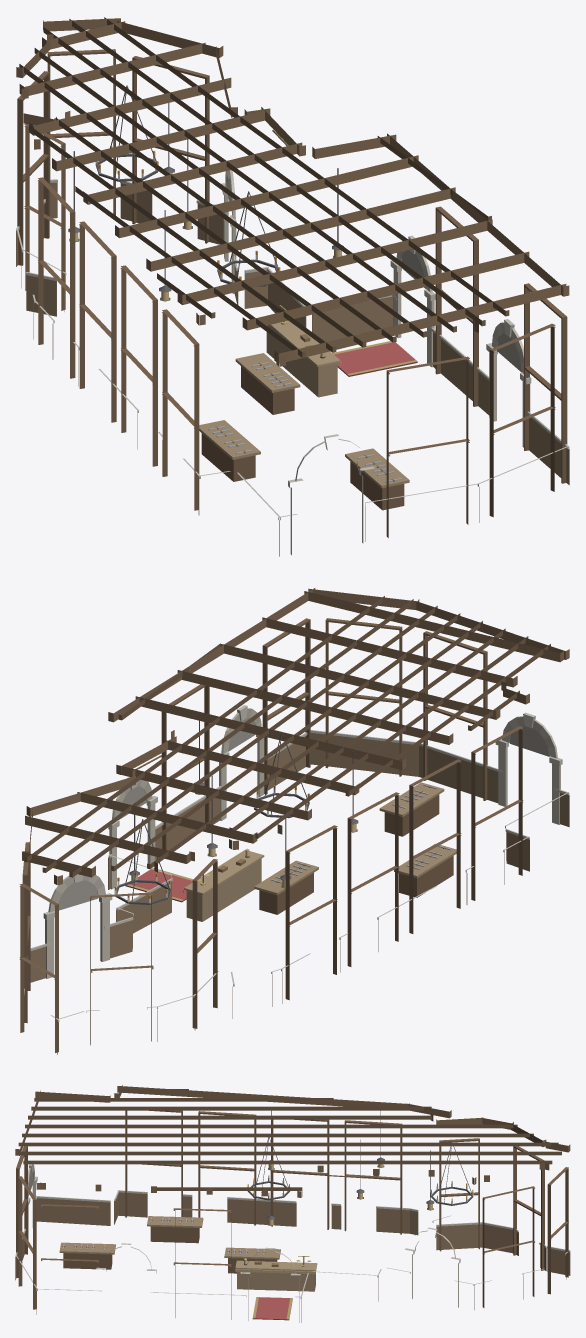
File: interior_b039.glb
The picture shows the model from 3 angles, top to bottom: view 1: azimuth 30°, elevation 25°; view 2: azimuth 150°, elevation 25°; view 3: azimuth 270°, elevation 25°; orthographic projection. The views are drawn at different scales.
Parts seen in each view (by area): view 1: Interior_B039_mesh; view 2: Interior_B039_mesh; view 3: Interior_B039_mesh.
Part boxes in pixels (x1=…): Interior_B039_mesh: x1=16, y1=17, x2=569, y2=556; Interior_B039_mesh: x1=19, y1=588, x2=569, y2=1054; Interior_B039_mesh: x1=15, y1=1085, x2=570, y2=1322.
Size of the model in its own units: 11.19 by 6.35 by 24.31.
